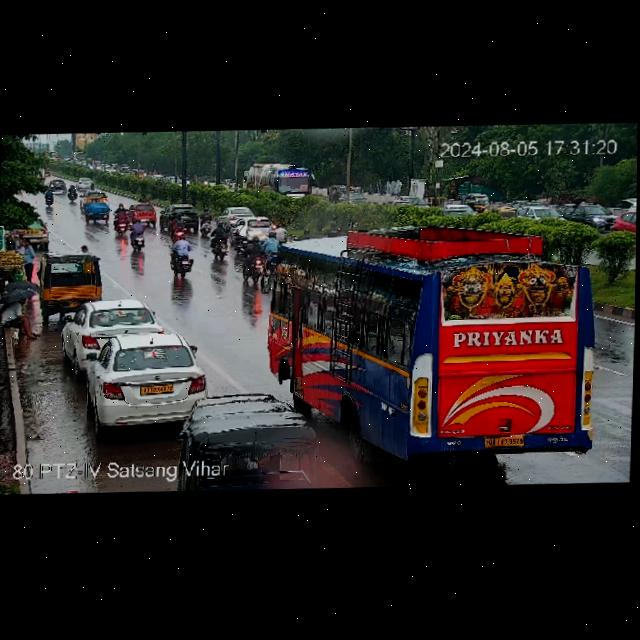bus: (263, 232, 610, 467), (245, 160, 313, 202), (71, 151, 86, 163)
car: (180, 388, 312, 493), (76, 329, 205, 432), (64, 297, 158, 357), (44, 251, 105, 311), (521, 203, 605, 222), (7, 215, 49, 247), (161, 202, 197, 229), (613, 201, 637, 239), (517, 205, 567, 222), (81, 198, 112, 224), (217, 204, 254, 223), (244, 215, 274, 238), (133, 202, 157, 223), (82, 188, 112, 202), (48, 179, 67, 194), (474, 197, 493, 211), (76, 177, 96, 190)
motorcycle: (168, 230, 200, 277), (238, 241, 264, 283), (124, 220, 150, 252), (210, 224, 233, 259), (104, 204, 130, 234), (233, 226, 250, 255), (263, 232, 282, 254), (200, 212, 216, 236), (65, 182, 81, 203), (42, 187, 54, 206), (136, 191, 152, 204)
person: (1, 280, 40, 340), (19, 240, 39, 282)
